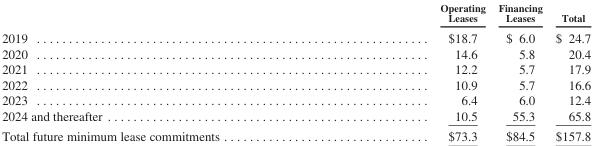table: (1, 1, 590, 143)
table column: (1, 1, 329, 143), (329, 1, 491, 143), (491, 1, 548, 143), (548, 1, 590, 143)
table column header: (1, 1, 590, 27)
table row: (1, 1, 590, 27), (1, 27, 590, 45), (1, 107, 590, 125), (1, 125, 590, 143), (1, 60, 590, 76), (1, 91, 590, 107), (1, 45, 590, 60), (1, 76, 590, 91)
